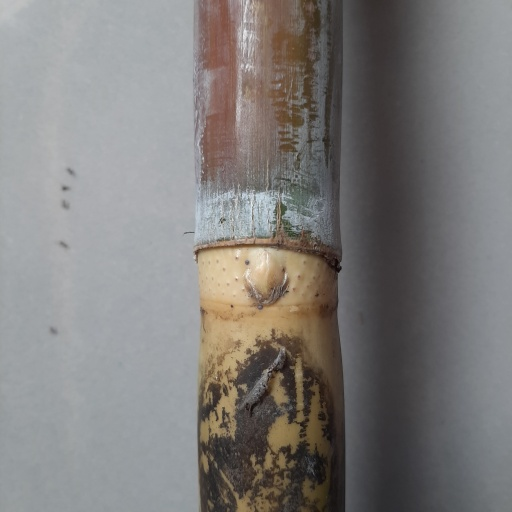Bud: (246, 250, 290, 307)
